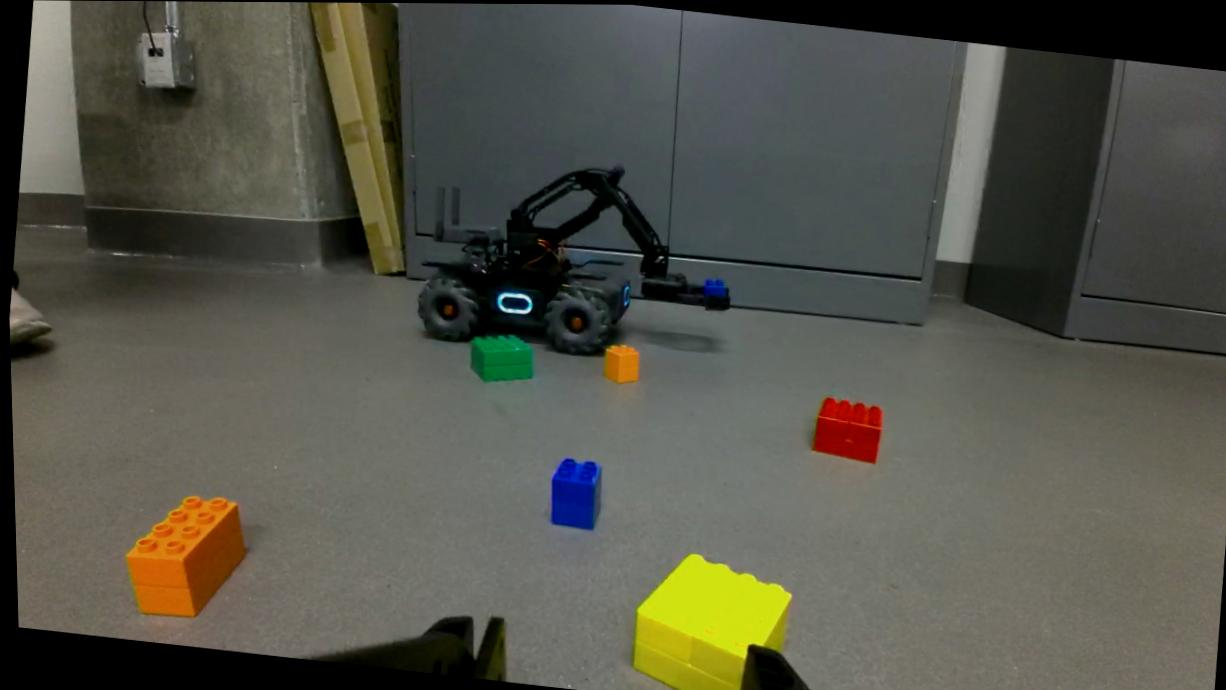2x2lego: (542, 455, 603, 530), (596, 339, 640, 387)
2x4lego: (114, 487, 249, 624)
4x4lego: (619, 545, 793, 690), (806, 394, 884, 463), (462, 328, 537, 387)
